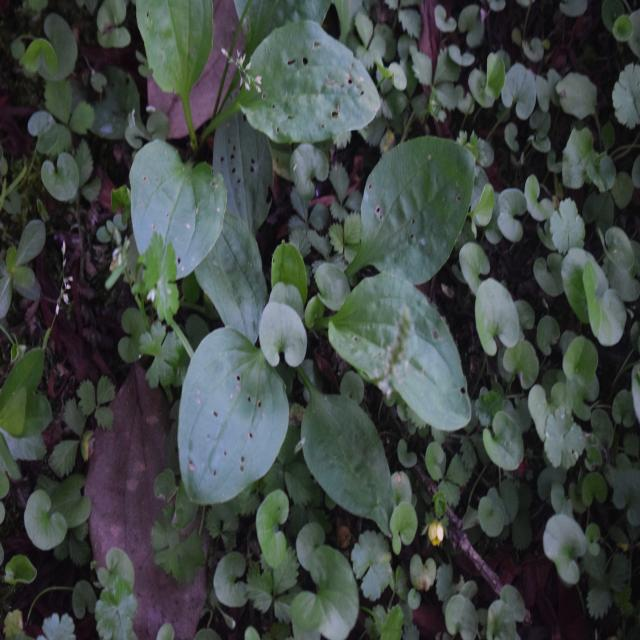plantain: (168, 82, 500, 542)
